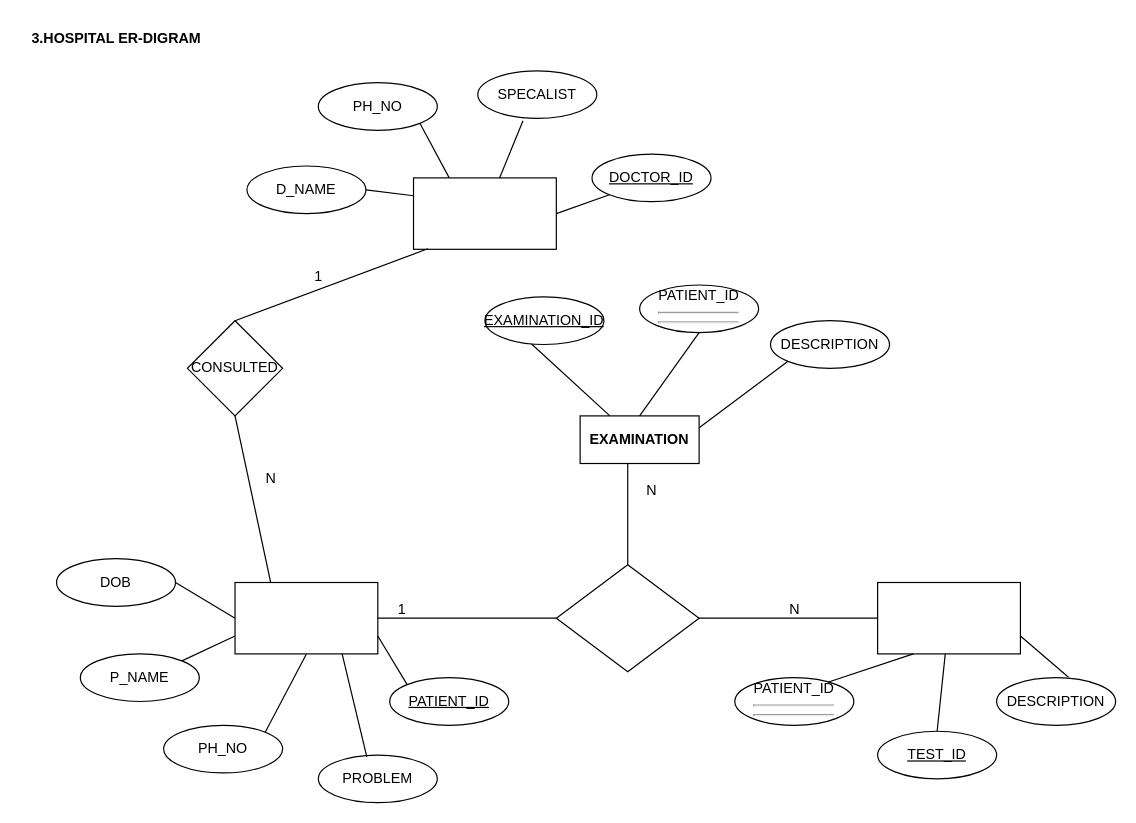
Image size: 1136x823. Some labels were removed from this diagram. The centre of each missing label's shape, as x and y in pixels:
"DOCTOR" goes at (x=484, y=213).
"PATIENT" goes at (x=306, y=617).
"TEST" goes at (x=948, y=617).
"WENT_THROUGH" goes at (x=627, y=617).
